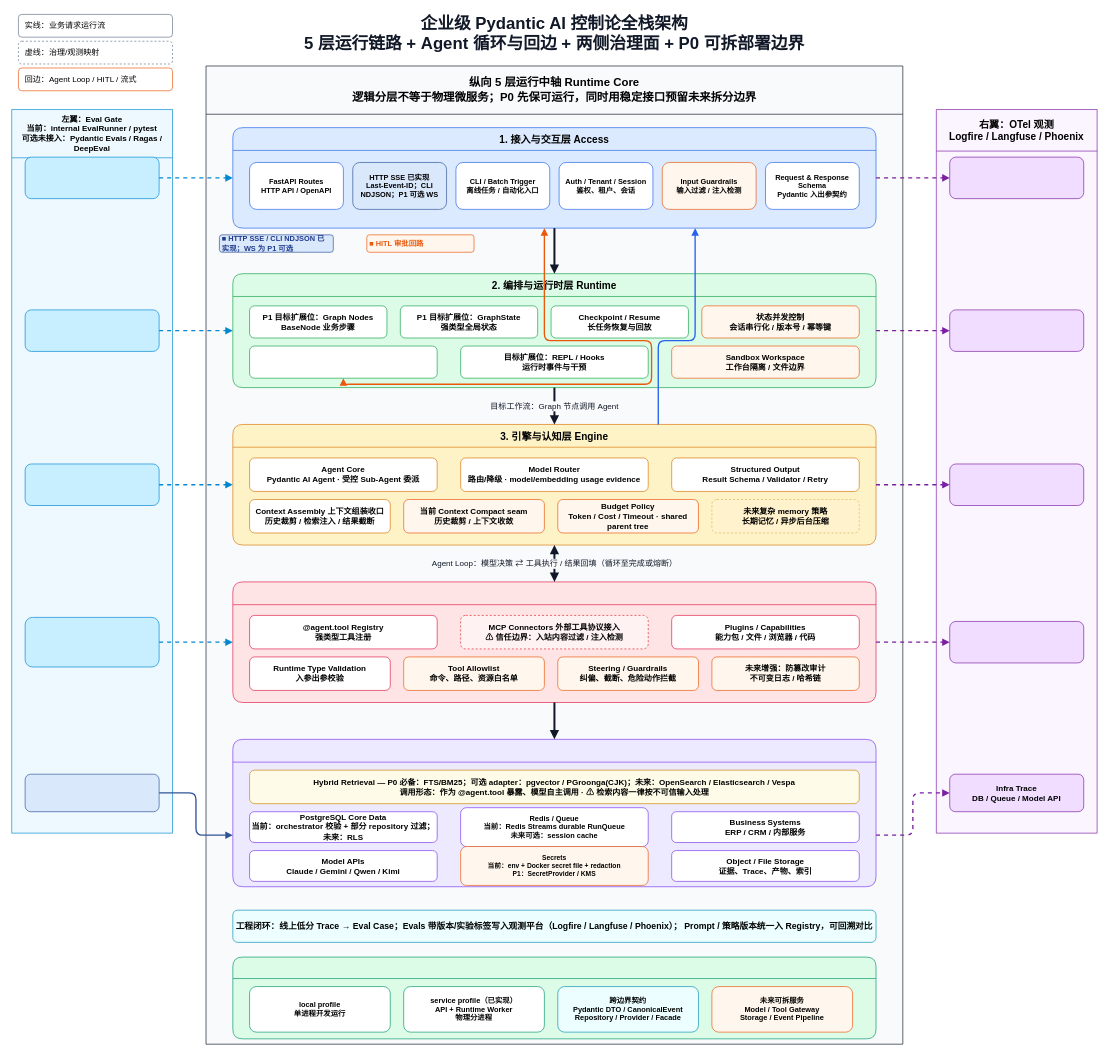
The diagram is 1109 pixels wide and 1056 high, and some of its shapes have lost their labels. The shapes that lost their labels are listed below. From the top down, each one's box as (x1, y1, x2, y2) in pixels, then its label:
(24, 156, 159, 199): Access Evals pytest / internal EvalRunner
(949, 156, 1084, 199): Access Trace 入口请求 / 会话 / 错误率
(24, 309, 159, 351): Runtime Evals 图路径 / 死锁 / 恢复
(949, 309, 1084, 351): Runtime Spans 当前：run / checkpoint / HITL 未来：GraphState / 分支
(249, 345, 437, 378): HITL Gate 人工确认 / 审批点
(24, 463, 159, 506): Engine Evals 当前：internal EvalRunner
(949, 463, 1084, 506): Engine Metrics Token / Compact / 熔断
(24, 617, 159, 667): RAG / Tool Evals 当前：Mock / Safety 未来可选：Ragas
(232, 581, 876, 702): 4. 工具与能力层 Tools
(949, 621, 1084, 663): Tool I/O Audit 脱敏 / 越权 / 失败回放
(24, 774, 159, 812): Phase 15 已实现 双 CI / Release / License Gate
(232, 739, 876, 887): 5. 基础设施与数据层 Infra
(232, 956, 876, 1039): P0 部署边界 / 未来微服务拆分基础
